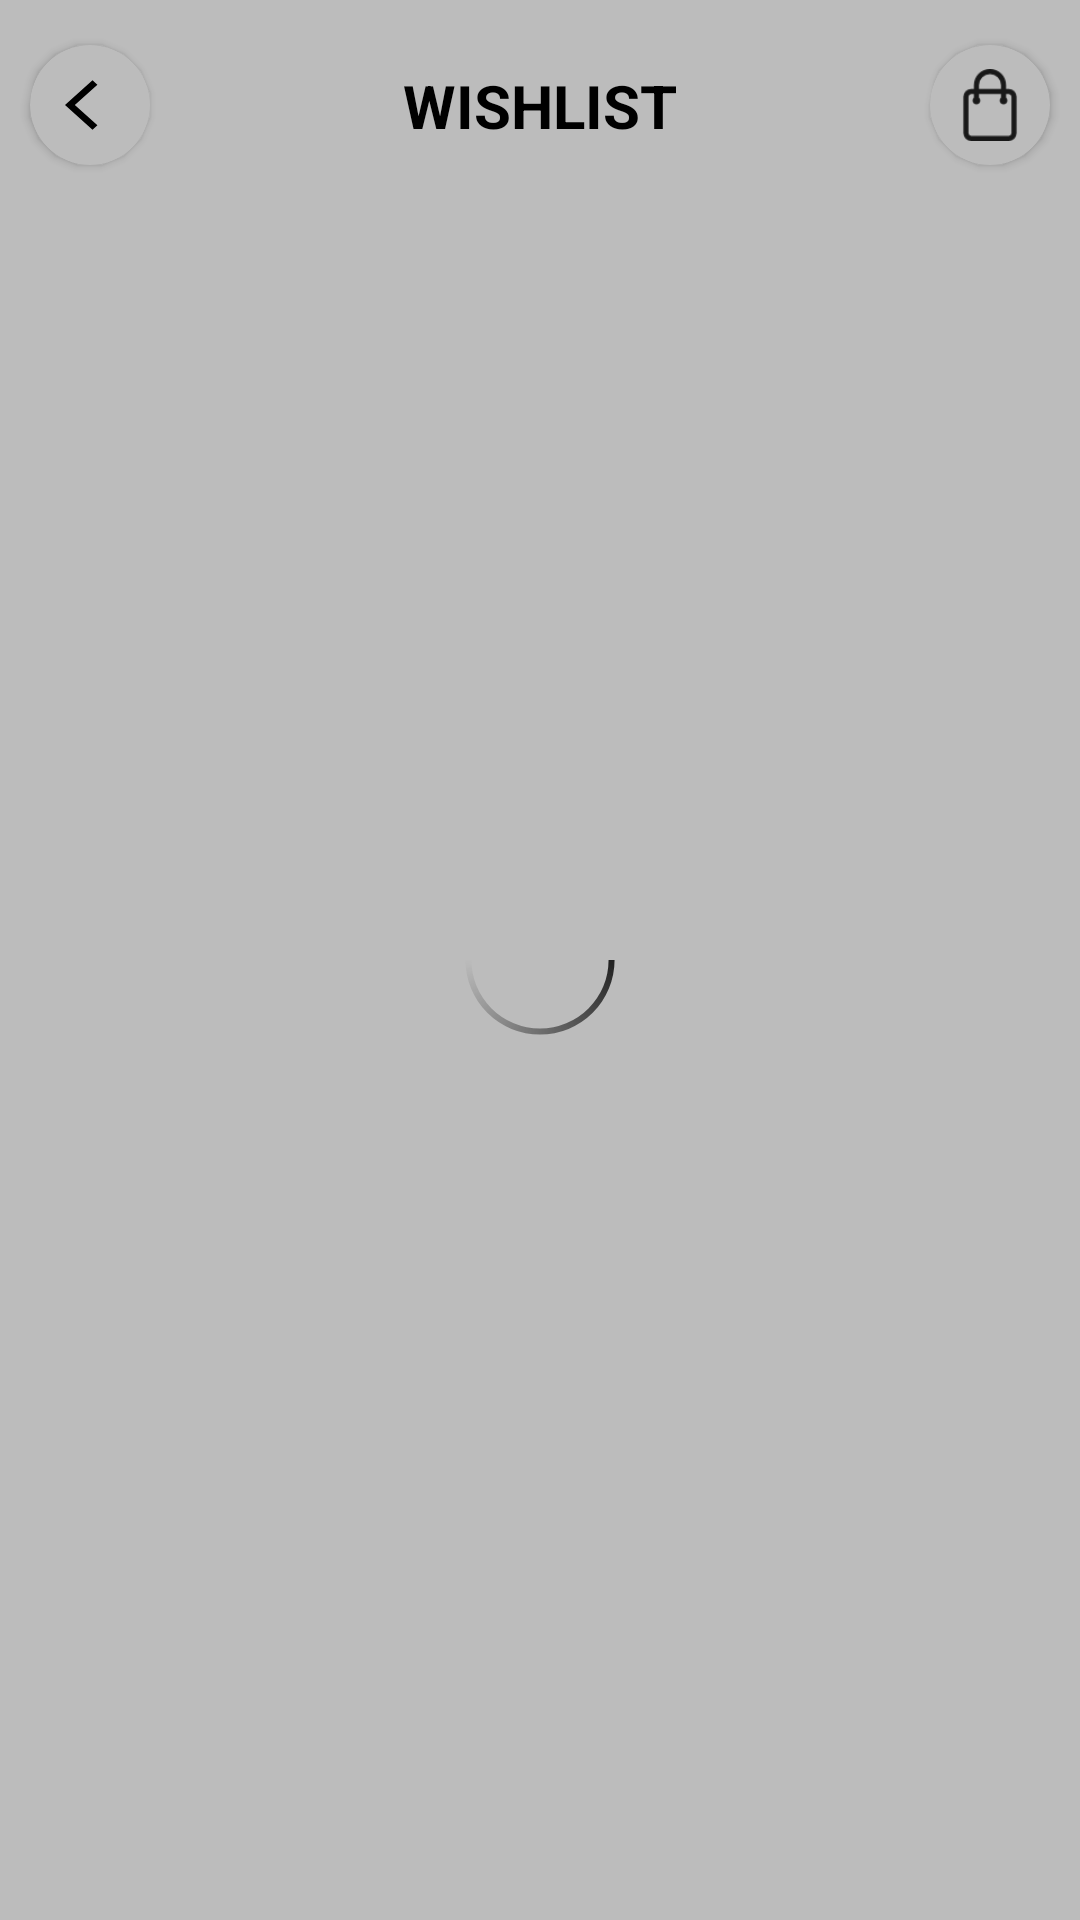

Icons on this 1080*1920 Android screen, each with the point to tap as point (x, y):
back: point (81, 105)
bag: point (990, 105)
